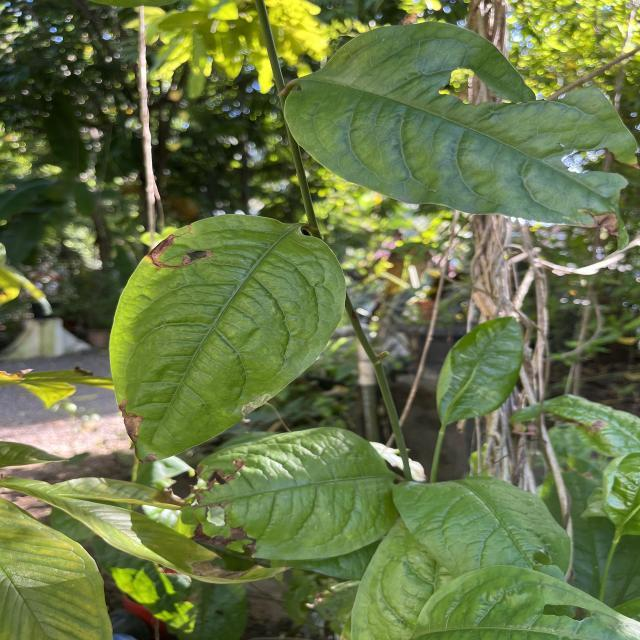Plumbago indica: (275, 14, 640, 230), (104, 208, 350, 468), (174, 421, 396, 566), (388, 470, 579, 581), (432, 310, 533, 428)
